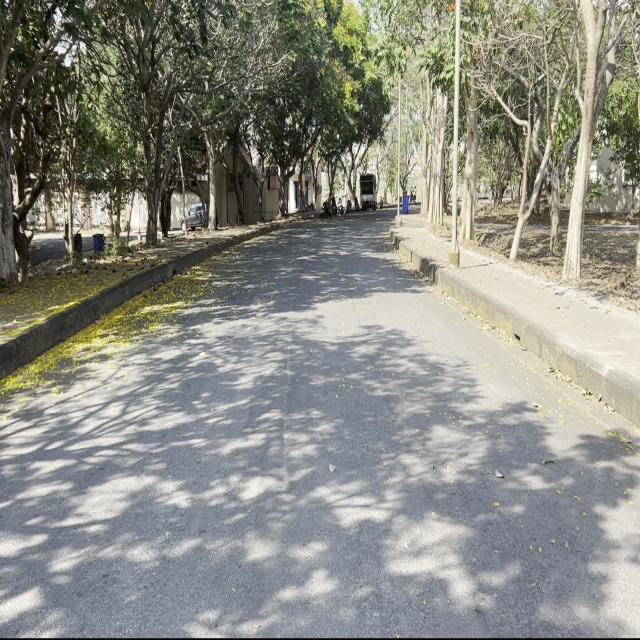Object: (359, 170, 381, 215)
Road: (2, 211, 636, 631)
